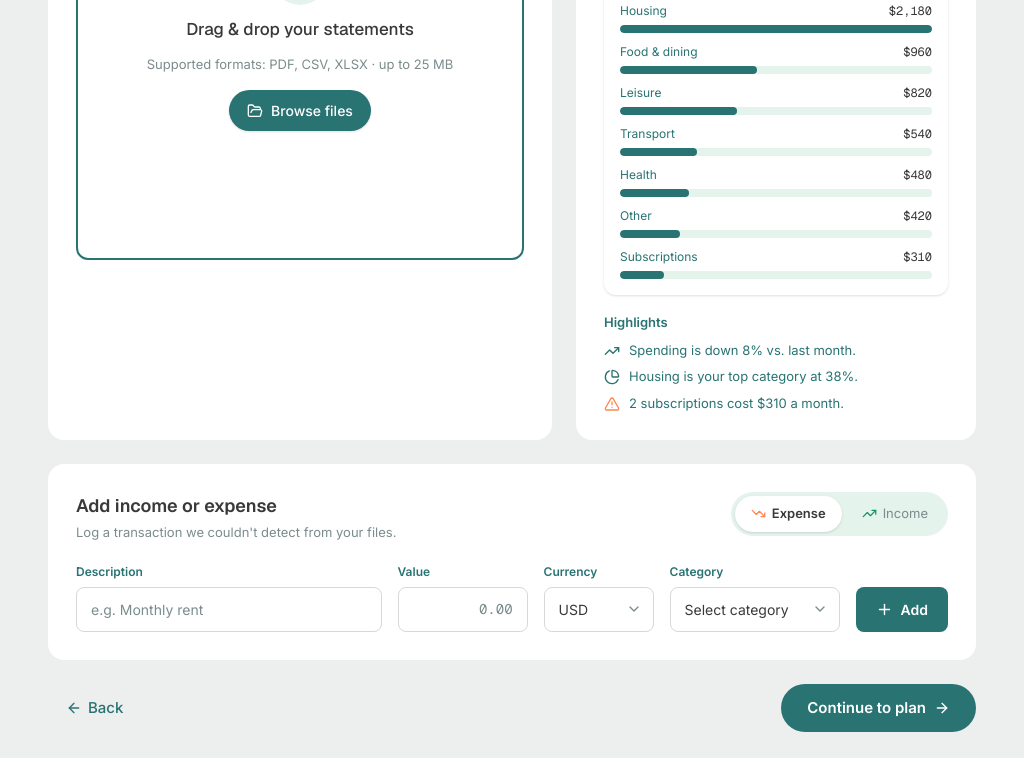
the snapshot › moves the figures when a transaction is added
(page scrolled)
Step 1. Type "Groceries — Whole Foods" into the field labelled "Description" → (229, 609), box [76, 587, 382, 632]
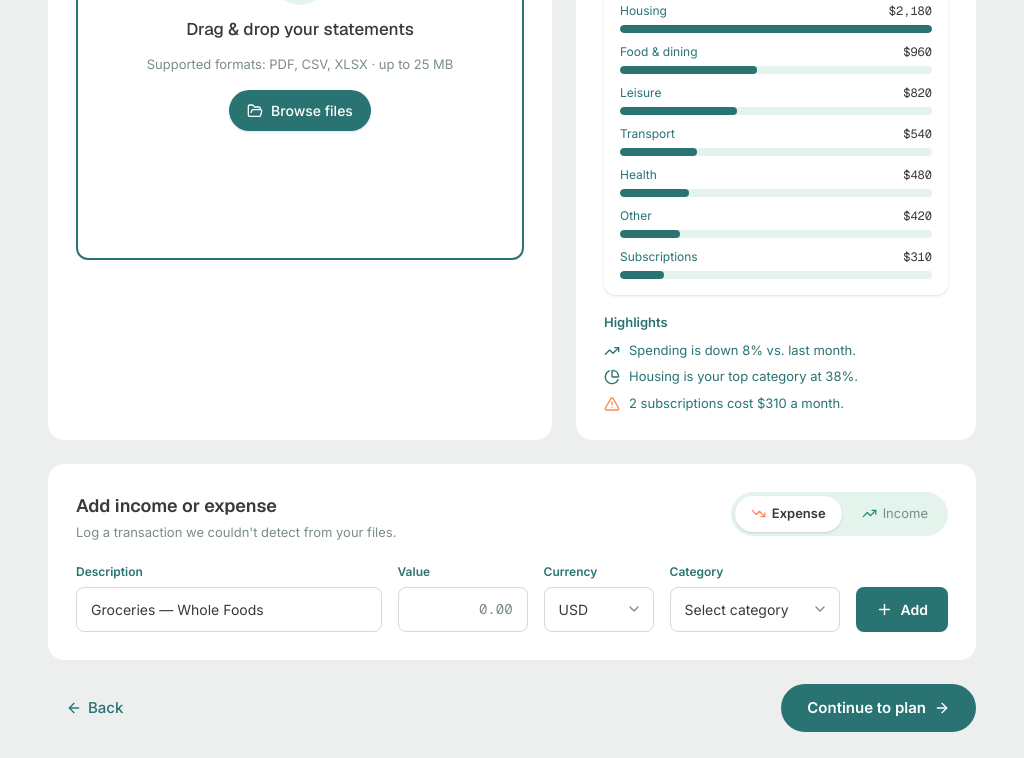
Step 2. Type "290" into the field labelled "Value" → (462, 609), box [398, 587, 528, 632]
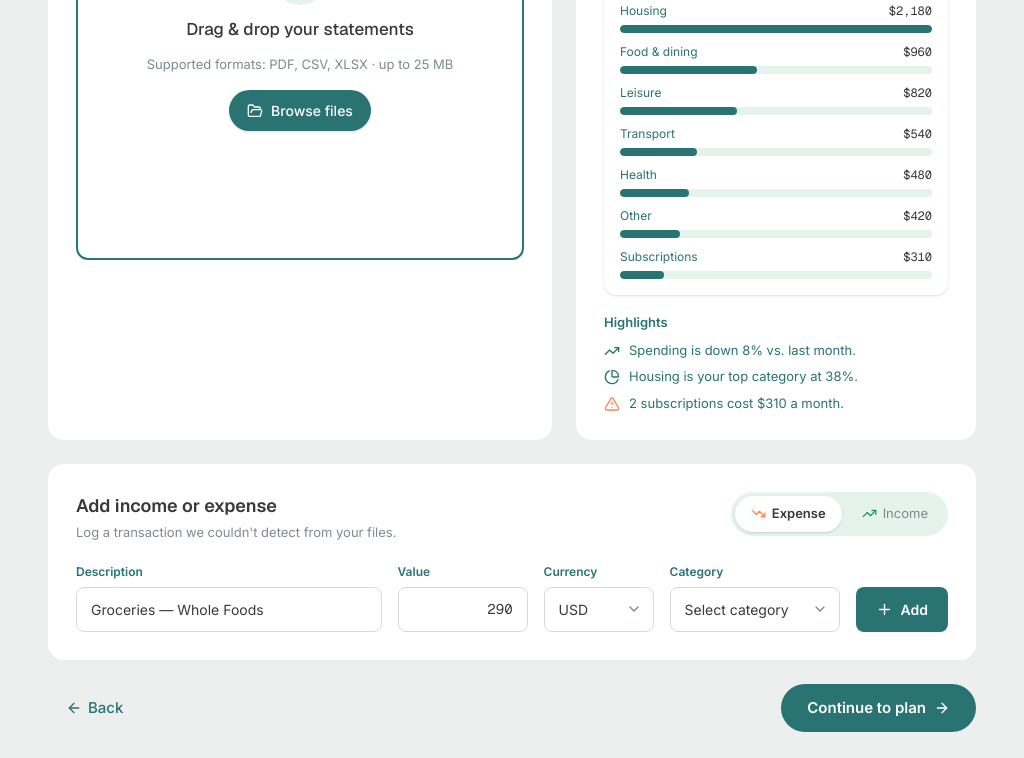
Step 3. Select "Food & dining" in the dropdown labelled "Category" → (754, 609), box [670, 587, 840, 632]
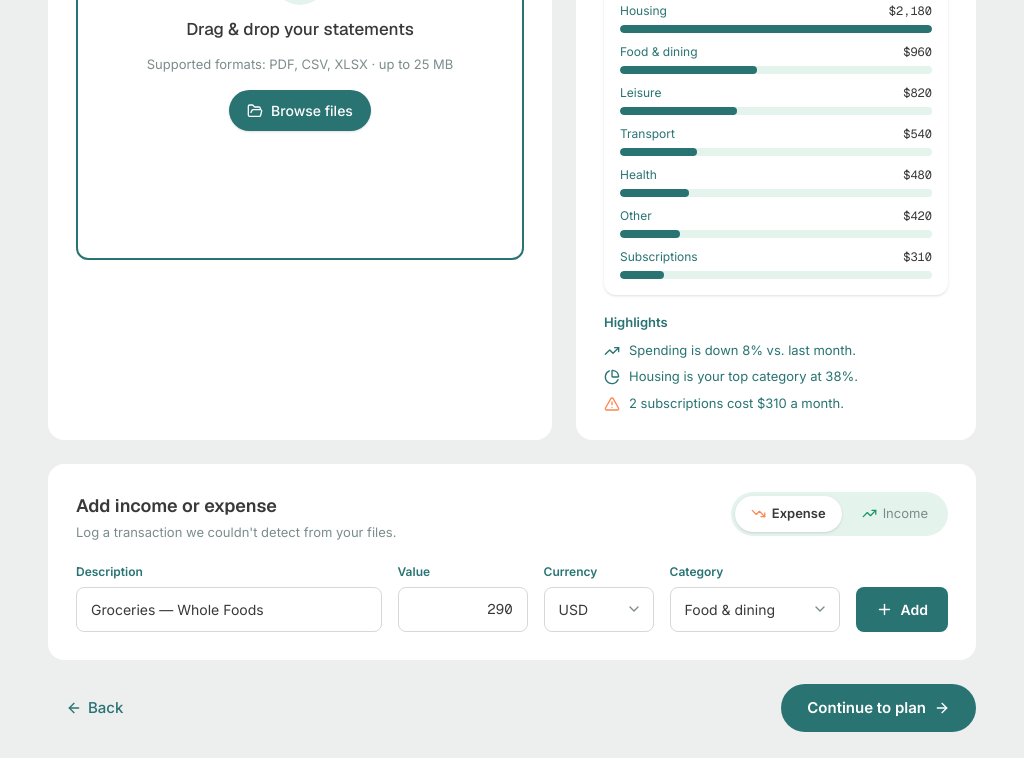
Step 4. Click the button "Add" → (902, 609), box [856, 587, 948, 632]
(page scrolled)
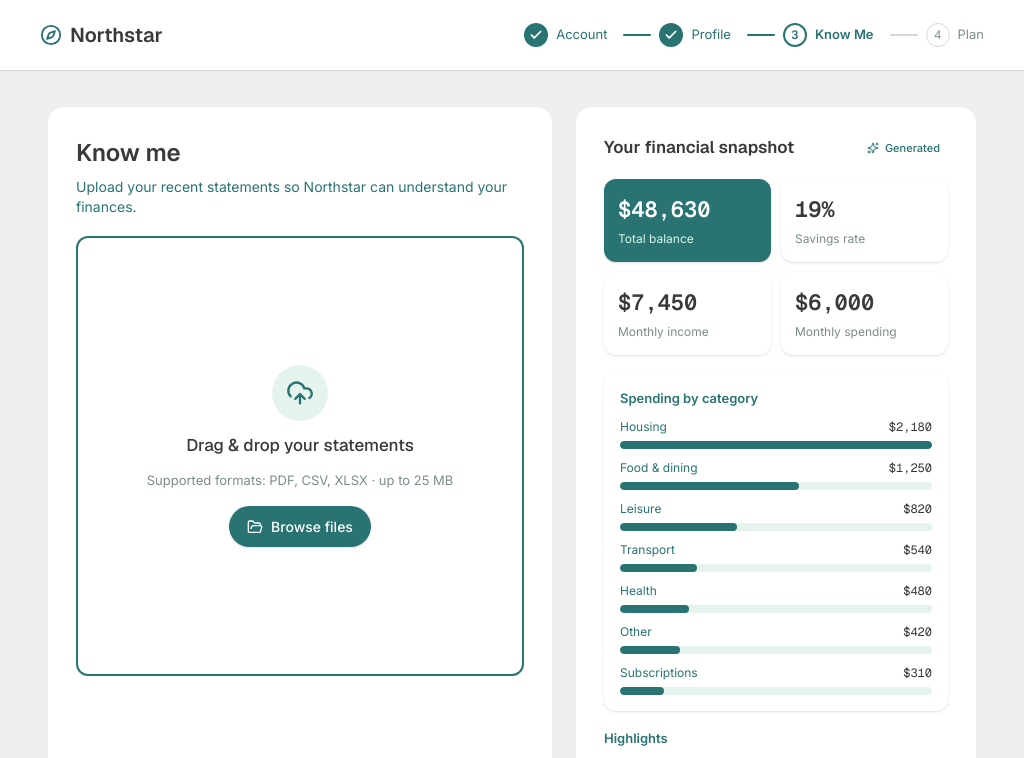
Expected: the text "$6,000" is shown, [795, 288, 874, 316]
